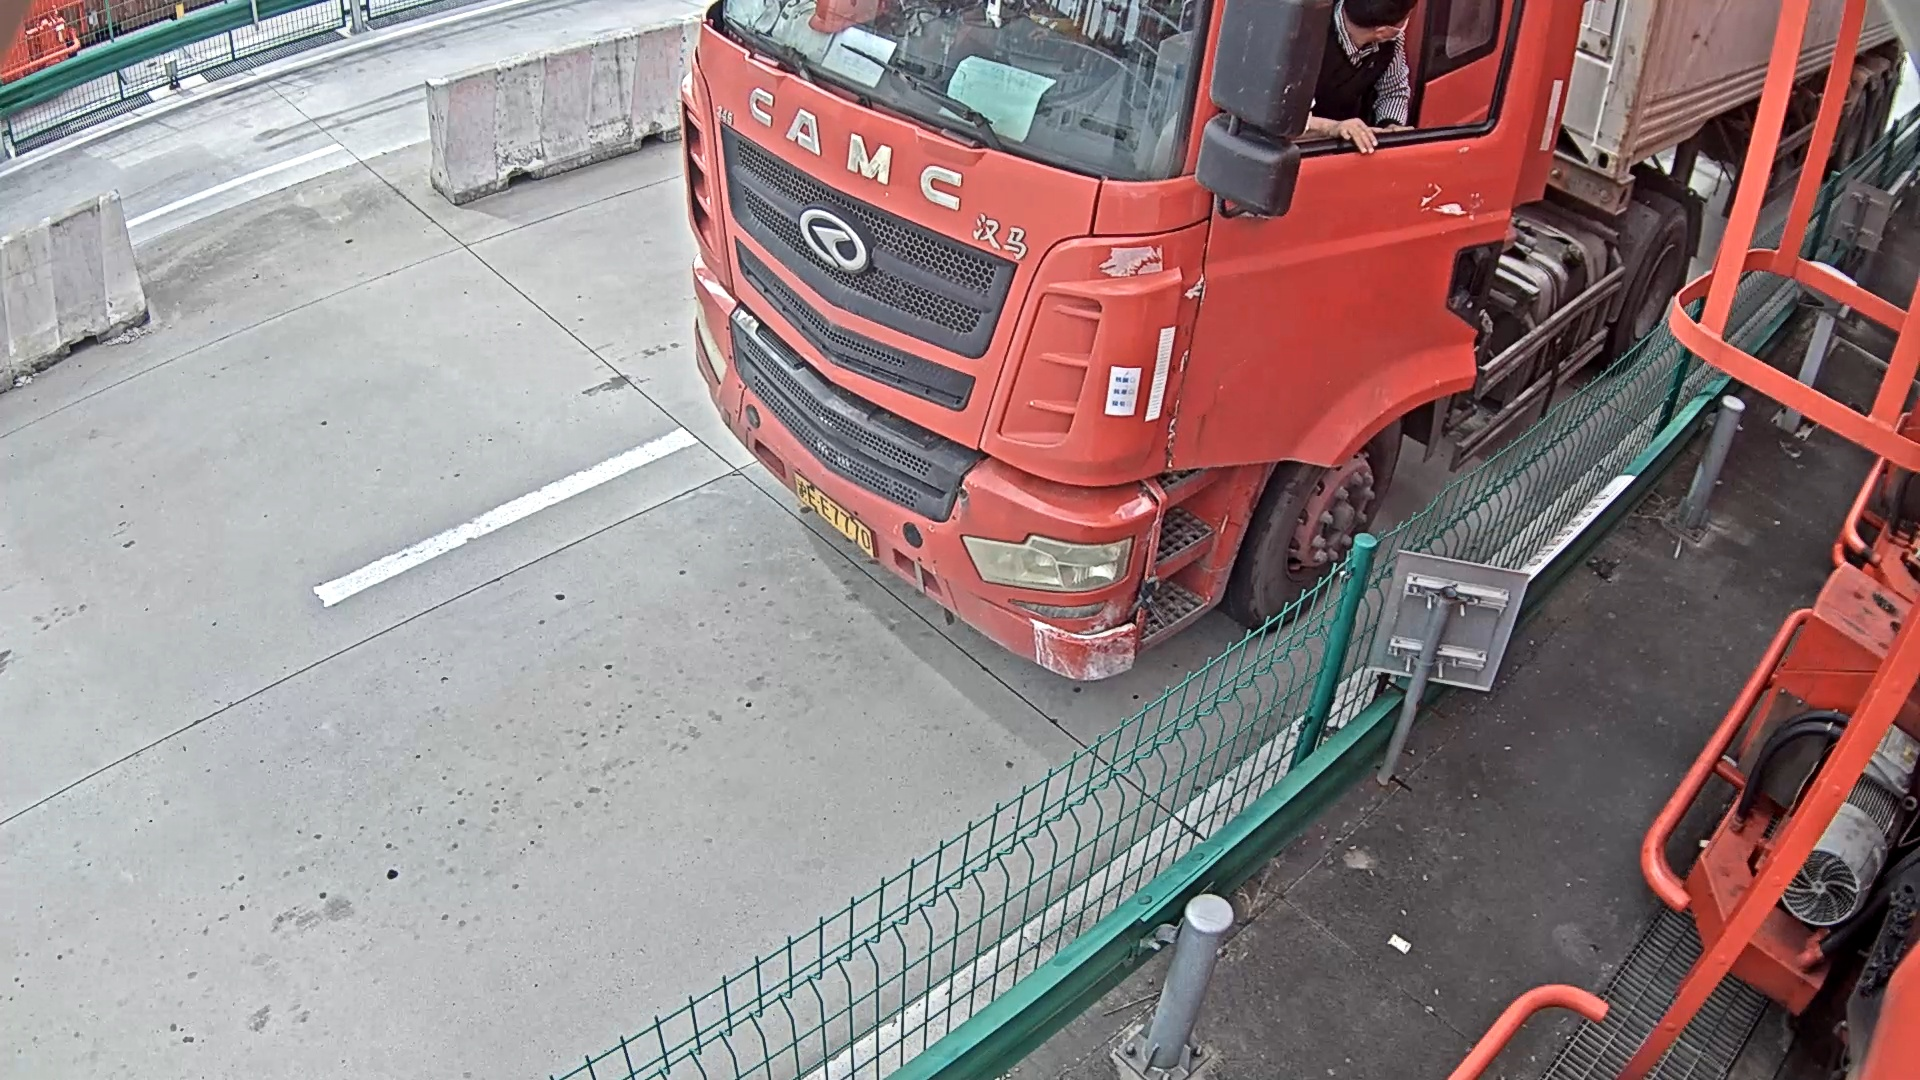head: (686, 1, 1587, 683)
plate: (794, 471, 881, 561)
